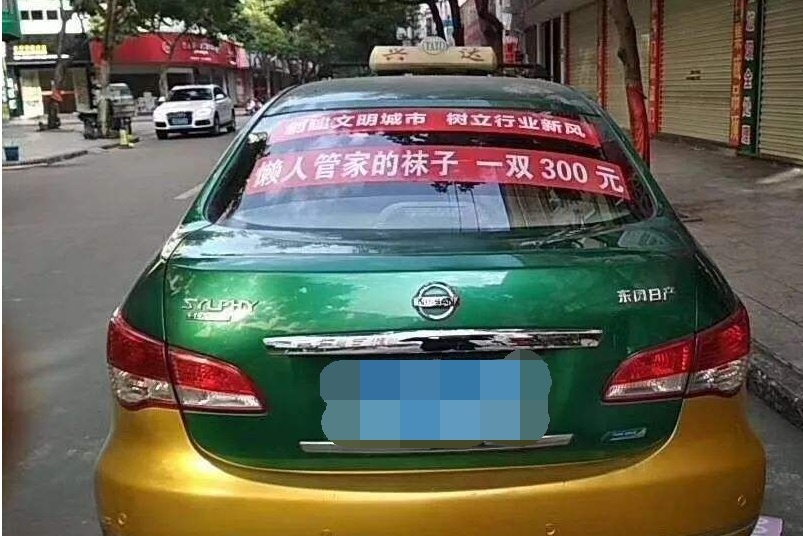taxi: (104, 42, 778, 533)
